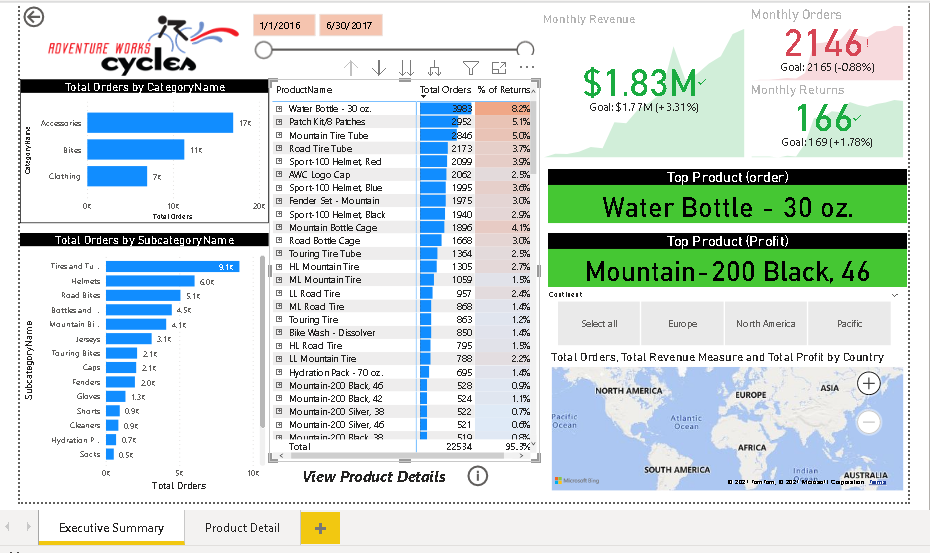

This screenshot's page, from the dashboard's own definition file:
{"tool":"powerbi","page":{"name":"Executive Summary","canvas":[1280,720],"ordinal":0},"visuals":[{"type":"actionButton","box":[0,0,100,40],"z":0},{"type":"image","box":[0,13,359.3,96.7],"z":1000},{"type":"barChart","title":"Total Orders  by SubcategoryName","fields":{"Category":["AW_Product_Subcategory_lookup.SubcategoryName"],"Y":["AW_Sales.Total Orders"]},"box":[0,331.9,359.3,376.6],"z":2000},{"type":"barChart","title":"Total Orders by CategoryName","fields":{"Y":["AW_Sales.Total Orders"],"Category":["AW_Product_Category_lookup.CategoryName"]},"box":[0,109.7,359.3,207.8],"z":3000},{"type":"pivotTable","fields":{"Values":["AW_Sales.Total Orders","AW_Returns.% of Returns"],"Rows":["AW_product_lookup.ProductName","AW_Product_Category_lookup.CategoryName","AW_Product_Subcategory_lookup.SubcategoryName"]},"box":[359.3,109.7,391,552.6],"z":4000},{"type":"slicer","fields":{"Values":["AW_Calender_lookup.Date"]},"box":[323.2,5.8,427.1,98.1],"z":5000},{"type":"kpi","title":"Monthly Revenue","fields":{"Indicator":["AW_Sales.Total Revenue Measure"],"TrendLine":["AW_Calender_lookup.Start of Month"],"Goal":["AW_Sales.Prev month Revenue"]},"box":[750.3,13,300.1,215],"z":6000},{"type":"kpi","title":"Monthly Orders","fields":{"Indicator":["AW_Sales.Total Orders"],"Goal":["AW_Sales.Prev Month Orders"],"TrendLine":["AW_Calender_lookup.Start of Month"]},"box":[1050.4,5.8,229.4,111.1],"z":7000},{"type":"kpi","title":"Monthly Returns","fields":{"TrendLine":["AW_Calender_lookup.Start of Month"],"Indicator":["AW_Returns.TOTAL RETURNS"],"Goal":["AW_Returns.prev Month Returns"]},"box":[1050.4,114,229.4,114],"z":8000},{"type":"card","title":"Top Product (order)","fields":{"Values":["Min(AW_product_lookup.ProductName)"]},"box":[761.8,239.5,518,77.9],"z":9000},{"type":"card","title":"Top Product (Profit)","fields":{"Values":["Min(AW_product_lookup.ProductName)"]},"box":[761.8,331.9,518,77.9],"z":10000},{"type":"map","fields":{"Category":["AW_Territories.Country"],"Size":["AW_Sales.Total Orders"]},"box":[761.8,500.7,518,207.8],"z":11000},{"type":"slicer","fields":{"Values":["AW_Territories.Continent"]},"box":[750.3,409.8,529.5,90.9],"z":12000},{"type":"textbox","box":[359.3,662.3,301.6,46.2],"z":13000},{"type":"actionButton","box":[640.6,662.3,99.6,40.4],"z":14000}]}

Visuals, with their boxes on the page's 1280x720 design canvas (x1, y1, x2, y2). These are canvas units, not pixel positions in the 930x553 screenshot, which may show the page scaled, cropped or inside an application window:
actionButton: bbox(0, 0, 100, 40)
image: bbox(0, 13, 359, 110)
"Total Orders  by SubcategoryName" barChart: bbox(0, 332, 359, 708)
"Total Orders by CategoryName" barChart: bbox(0, 110, 359, 318)
pivotTable - AW_Sales.Total Orders x AW_Returns.% of Returns: bbox(359, 110, 750, 662)
slicer - AW_Calender_lookup.Date: bbox(323, 6, 750, 104)
"Monthly Revenue" kpi: bbox(750, 13, 1050, 228)
"Monthly Orders" kpi: bbox(1050, 6, 1280, 117)
"Monthly Returns" kpi: bbox(1050, 114, 1280, 228)
"Top Product (order)" card: bbox(762, 240, 1280, 317)
"Top Product (Profit)" card: bbox(762, 332, 1280, 410)
map - AW_Territories.Country x AW_Sales.Total Orders: bbox(762, 501, 1280, 708)
slicer - AW_Territories.Continent: bbox(750, 410, 1280, 501)
textbox: bbox(359, 662, 661, 708)
actionButton: bbox(641, 662, 740, 703)
